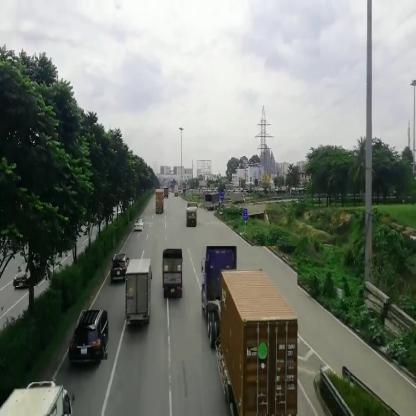car: (71, 311, 109, 362), (14, 263, 46, 288), (111, 255, 127, 278), (134, 221, 144, 233)
container: (157, 190, 164, 216)
truck: (203, 247, 299, 416), (7, 380, 74, 416), (128, 258, 152, 326), (162, 250, 184, 300), (187, 202, 197, 229), (205, 194, 220, 212), (232, 194, 248, 208)
